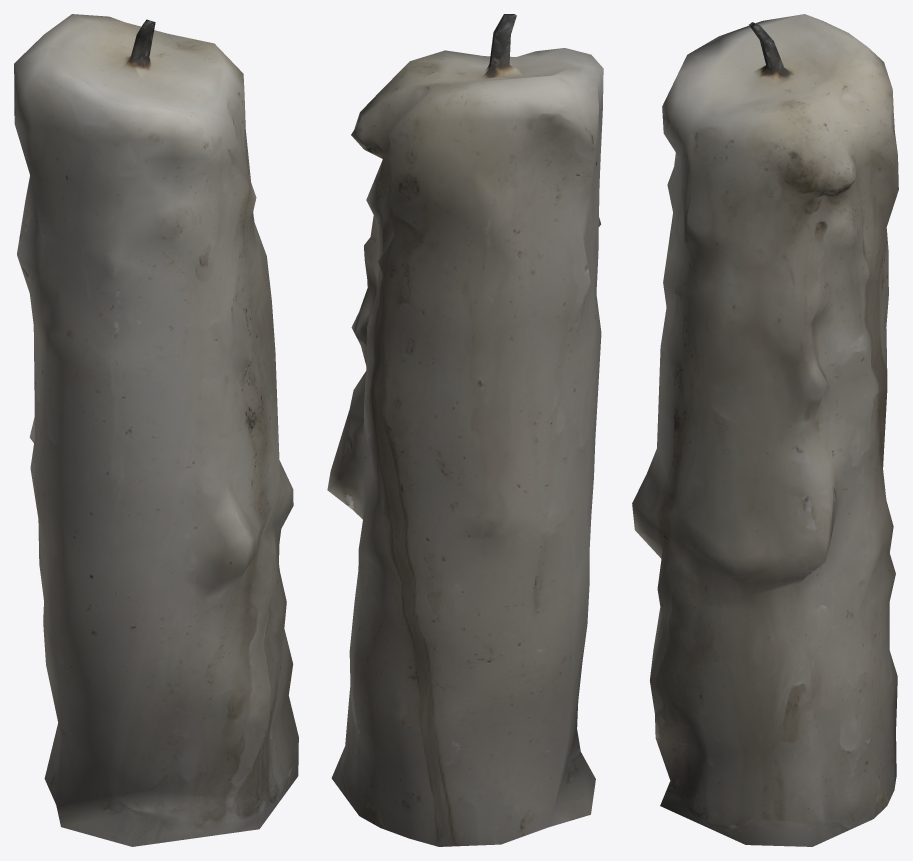
File: SM_Candle_01_03.fbx
3 views of the same model, side by side, from view 1: azimuth 30°, elevation 25°; view 2: azimuth 150°, elevation 25°; view 3: azimuth 270°, elevation 25° (orthographic). The views are drawn at different scales.
Parts seen in each view (by area): view 1: sm_Candle_01_03_LOD0; view 2: sm_Candle_01_03_LOD0; view 3: sm_Candle_01_03_LOD0.
Boxes of the visible parts, box(x1,y1,x2,y2) form: sm_Candle_01_03_LOD0: box(14, 14, 298, 846); sm_Candle_01_03_LOD0: box(327, 14, 603, 846); sm_Candle_01_03_LOD0: box(632, 14, 898, 846).
Size of the model in its own units: 7.9 by 8.62 by 24.58.
